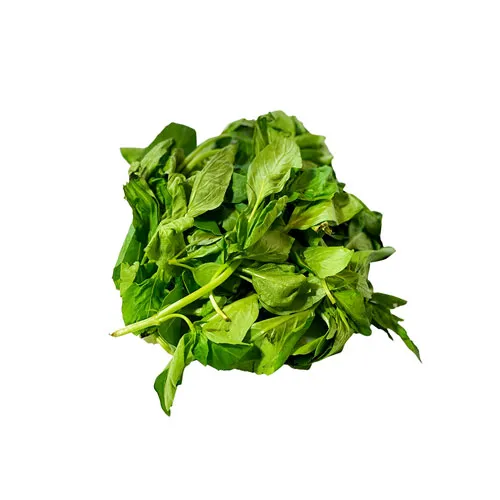Bayam: (86, 109, 454, 436)
